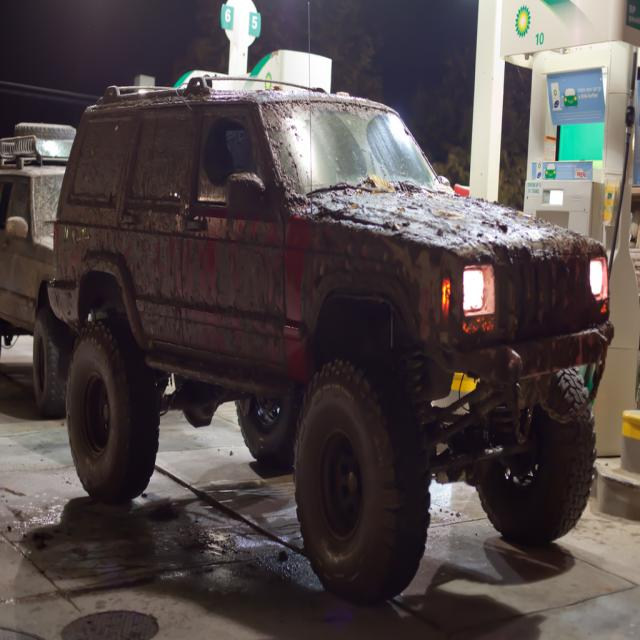car: (48, 74, 616, 593)
